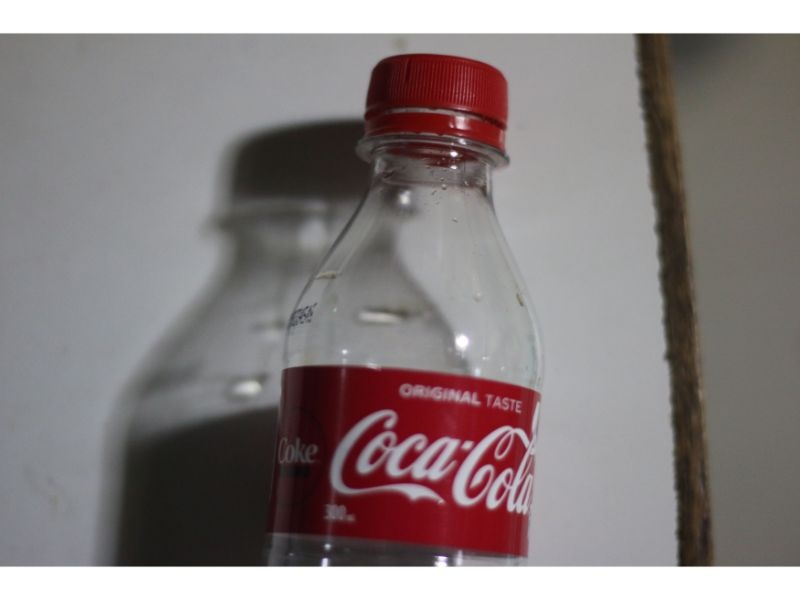PET #1: (262, 53, 544, 567)
